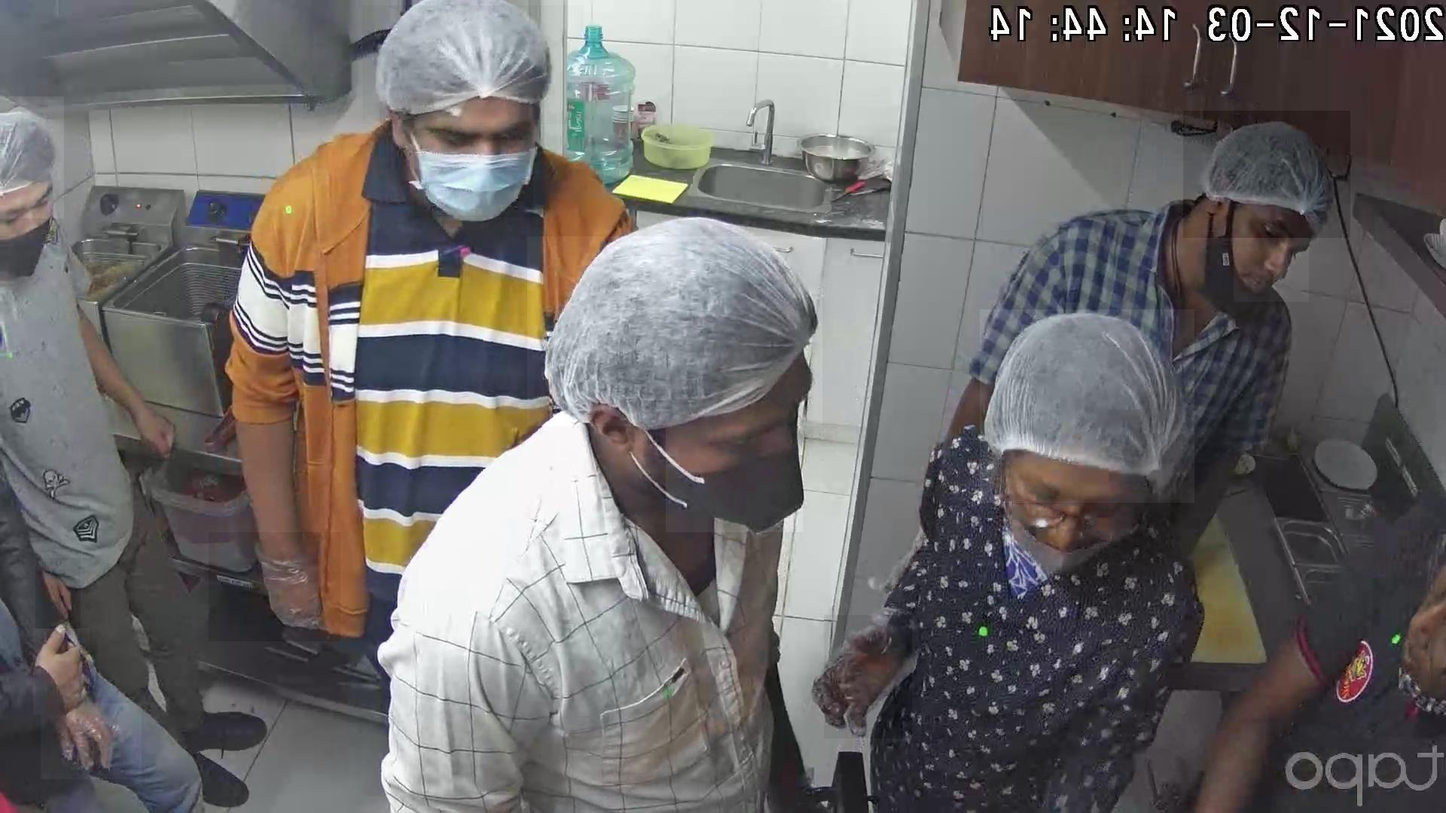apron: (209, 533, 341, 642), (824, 616, 912, 739), (41, 703, 142, 780)
gloves: (528, 237, 823, 426), (980, 310, 1194, 503), (362, 6, 584, 125), (1183, 111, 1350, 239), (0, 96, 64, 218)
mask: (666, 406, 803, 532), (414, 109, 533, 218), (2, 186, 53, 278)
no_apron: (116, 382, 195, 458), (34, 628, 90, 714), (36, 558, 81, 629)
no_hairnet: (999, 434, 1134, 565), (1371, 577, 1446, 737), (1234, 189, 1309, 302)
